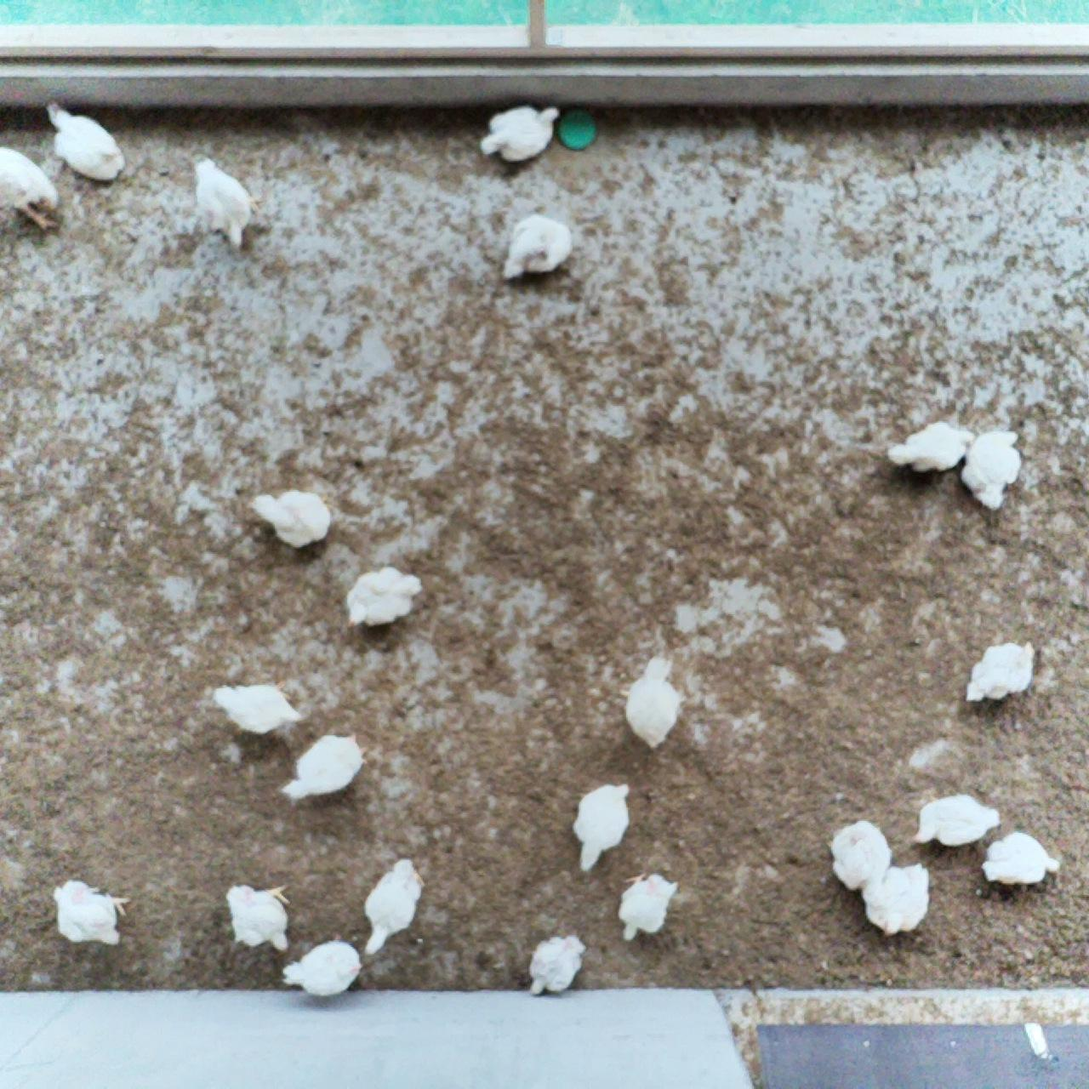chicken: (43, 104, 132, 181), (190, 158, 263, 251), (280, 732, 369, 802), (365, 859, 427, 956), (0, 142, 62, 232), (627, 654, 683, 751), (251, 489, 336, 550), (910, 791, 1002, 847), (574, 784, 634, 869), (865, 860, 930, 937), (960, 430, 1023, 509), (888, 418, 977, 473), (53, 878, 127, 944), (212, 680, 304, 733), (225, 883, 296, 951), (501, 214, 576, 278), (281, 939, 364, 996), (345, 566, 422, 627), (616, 872, 684, 940), (483, 107, 564, 164), (983, 834, 1059, 891), (965, 643, 1037, 703), (832, 820, 892, 886), (526, 936, 589, 996)
